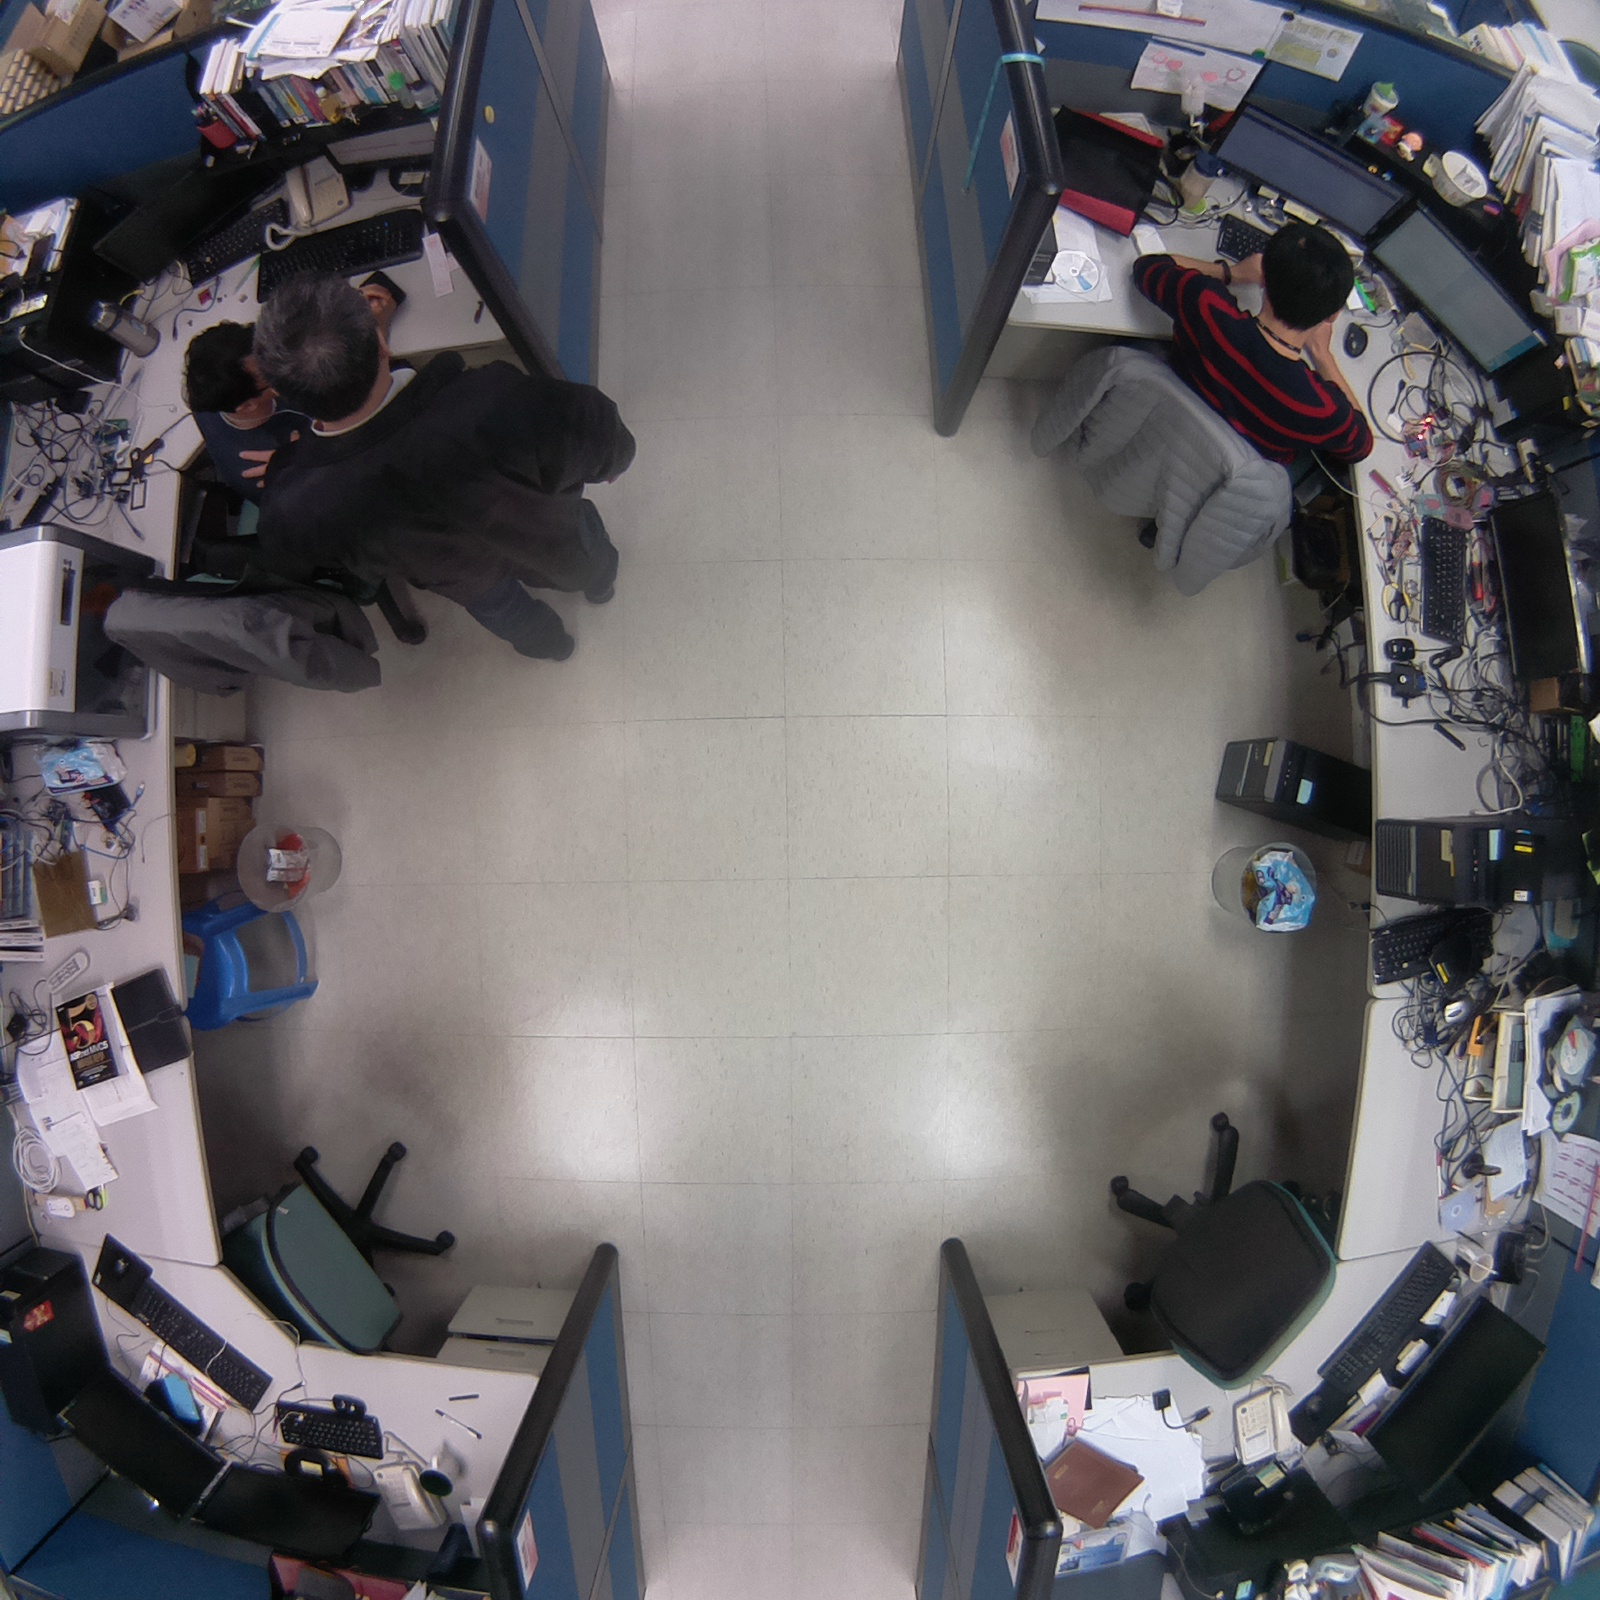chair: (1094, 1093, 1350, 1401), (212, 1114, 473, 1365)
head: (242, 270, 402, 421), (1255, 208, 1363, 338), (174, 319, 259, 434)
sitting: (1014, 217, 1376, 619), (99, 314, 332, 699)
standing: (250, 280, 644, 671)
